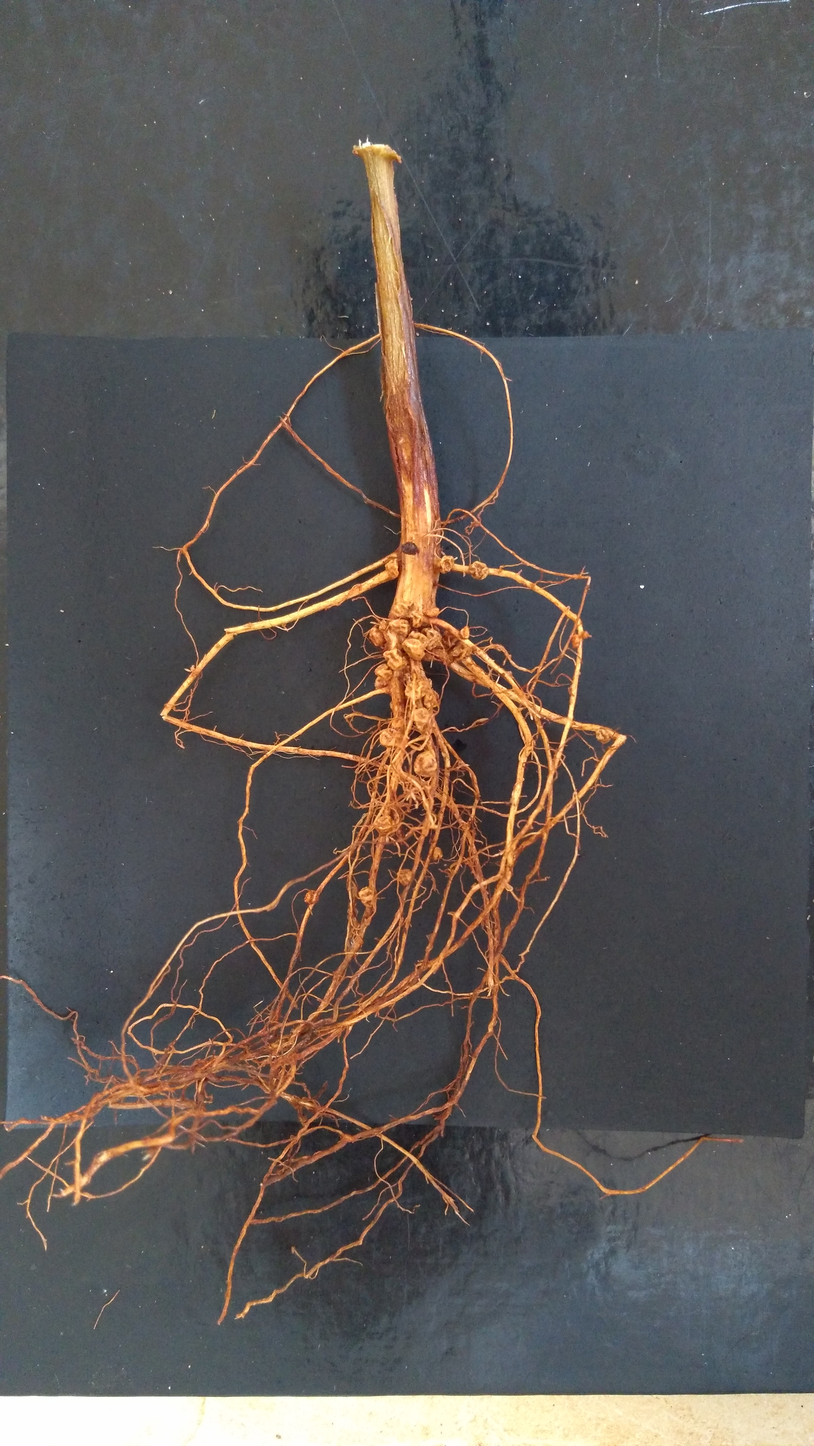nodule: (400, 667, 433, 699), (412, 749, 441, 780), (388, 598, 419, 619), (400, 637, 426, 662), (381, 648, 408, 671), (378, 727, 403, 750), (372, 814, 396, 837), (467, 559, 490, 581), (450, 641, 473, 663), (387, 618, 410, 639), (422, 626, 443, 649), (438, 553, 458, 576), (368, 626, 387, 648), (382, 557, 400, 580), (357, 885, 375, 908), (374, 662, 394, 681), (408, 630, 429, 648), (412, 707, 431, 725), (594, 726, 611, 746), (396, 868, 414, 886), (424, 690, 441, 708), (400, 541, 419, 557), (302, 889, 320, 905), (420, 606, 443, 618), (373, 674, 390, 690), (408, 611, 424, 627), (458, 624, 472, 641), (431, 845, 444, 862), (390, 715, 405, 729), (570, 633, 581, 648), (582, 630, 590, 639)
